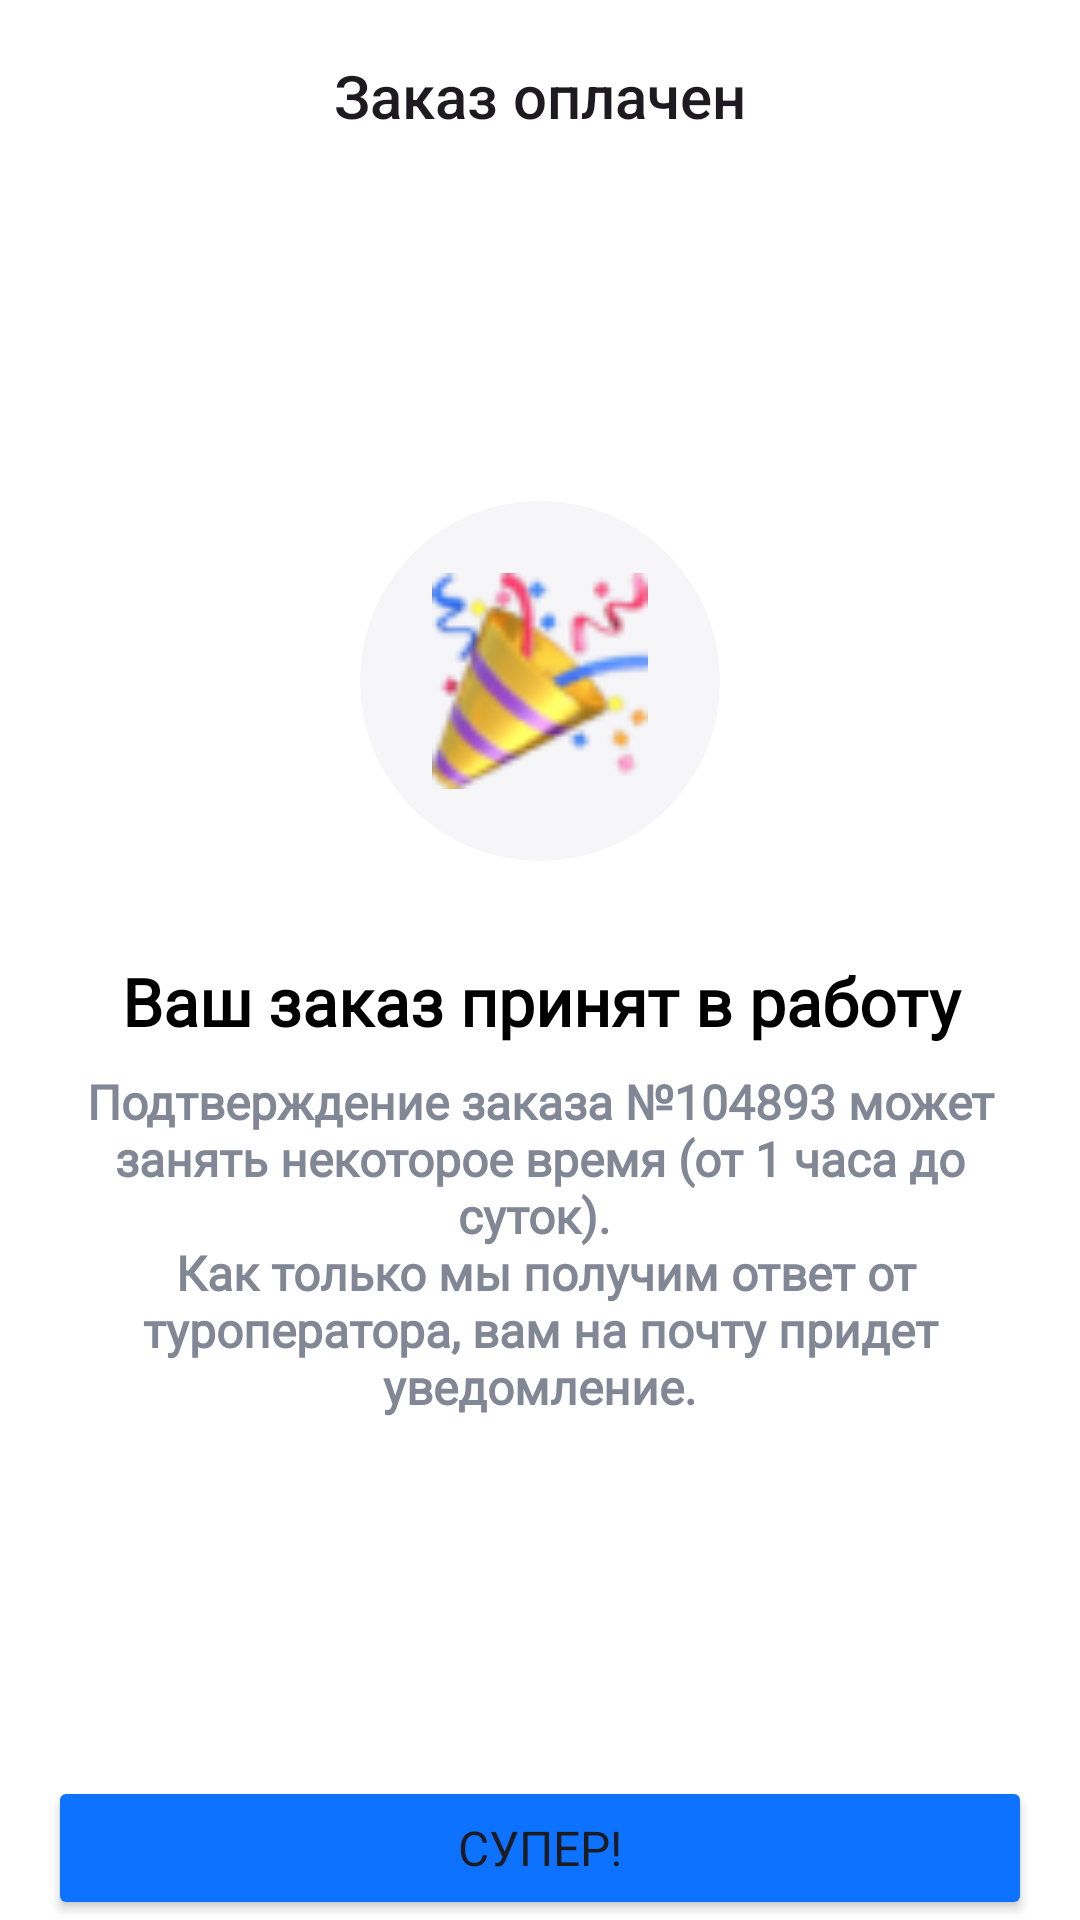

Icons on this 1080w x 1920h Android screen, each with the point to tap as point (x, y):
party popper: point (540, 681)
